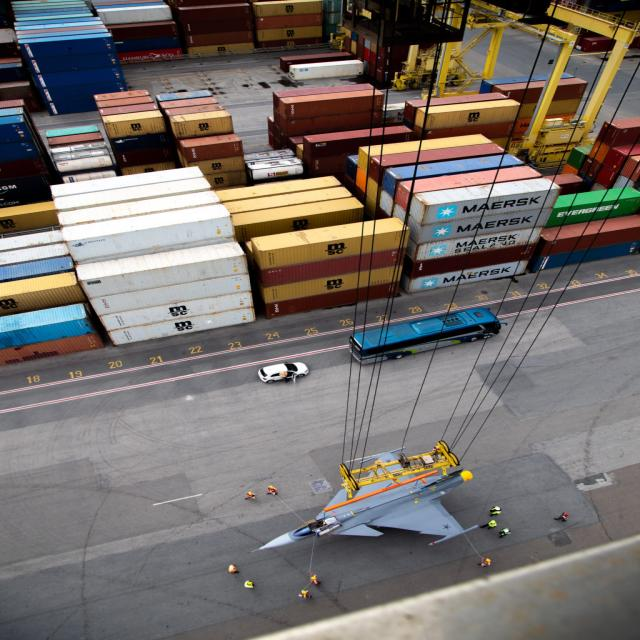MIL_Plane: (246, 446, 479, 554)
